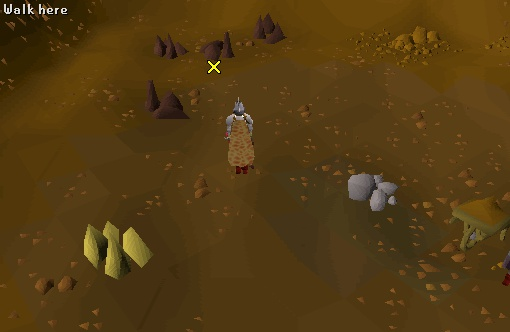gold: (67, 213, 172, 291)
iron: (133, 70, 203, 133), (196, 23, 238, 66), (148, 21, 190, 64), (246, 5, 288, 48)
